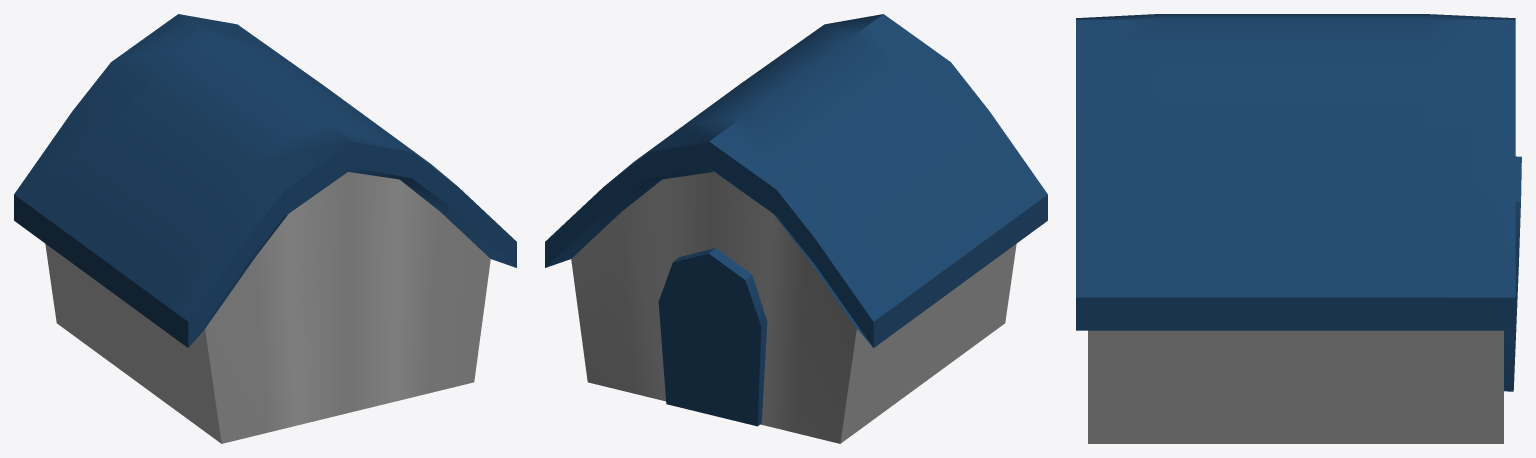
Rendered from house_03.fbx.
3 views of the same model, side by side, from view 1: azimuth 30°, elevation 25°; view 2: azimuth 150°, elevation 25°; view 3: azimuth 270°, elevation 25° (orthographic). The views are drawn at different scales.
Visible parts, largest first — view 1: house_03; view 2: house_03; view 3: house_03.
Part boxes in pixels (box(x1,y1,x2,y2)): house_03: box(14, 14, 516, 443); house_03: box(545, 14, 1047, 443); house_03: box(1076, 14, 1521, 443).
Size of the model in its own units: 0.9702 by 0.776 by 0.9044.
